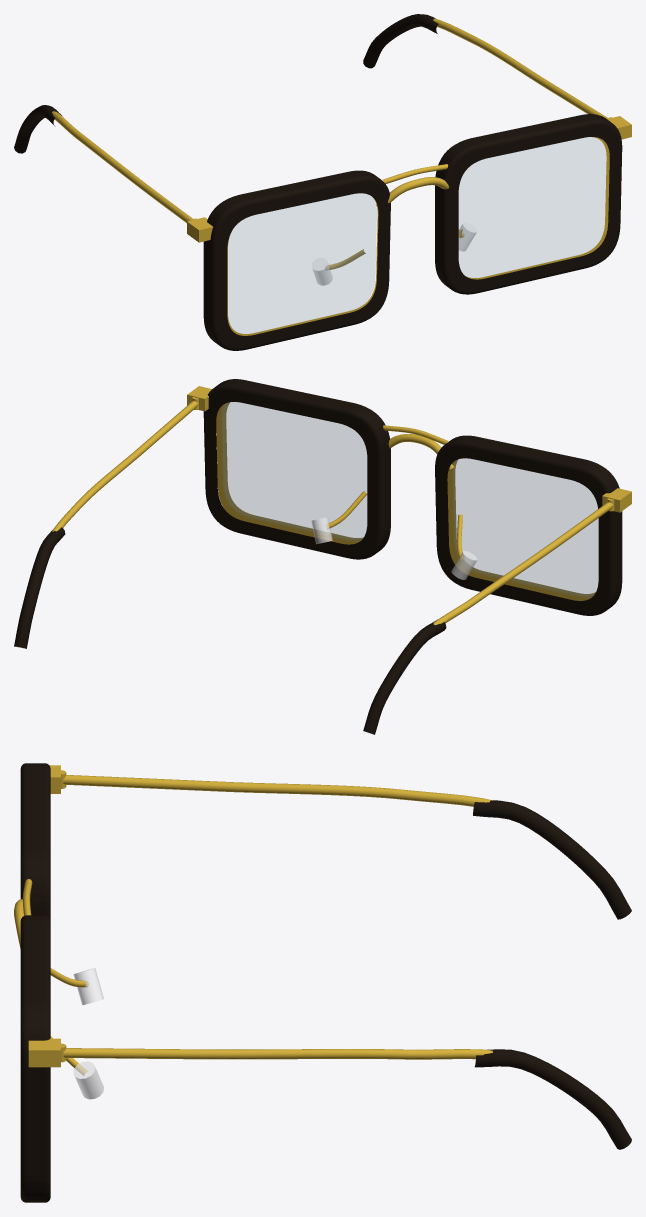
Rendered from Glasses.glb.
The picture shows the model from 3 angles, top to bottom: view 1: azimuth 30°, elevation 25°; view 2: azimuth 150°, elevation 25°; view 3: azimuth 270°, elevation 25°; orthographic projection. The views are drawn at different scales.
Visible parts, largest first — view 1: Glasses_Assembly; view 2: Glasses_Assembly; view 3: Glasses_Assembly.
Part boxes in pixels (x1,y1,x2,y2): Glasses_Assembly: [14, 14, 631, 350]; Glasses_Assembly: [14, 379, 631, 734]; Glasses_Assembly: [14, 763, 631, 1202].
Size of the model in its own units: 2.92 by 0.97 by 2.68.
